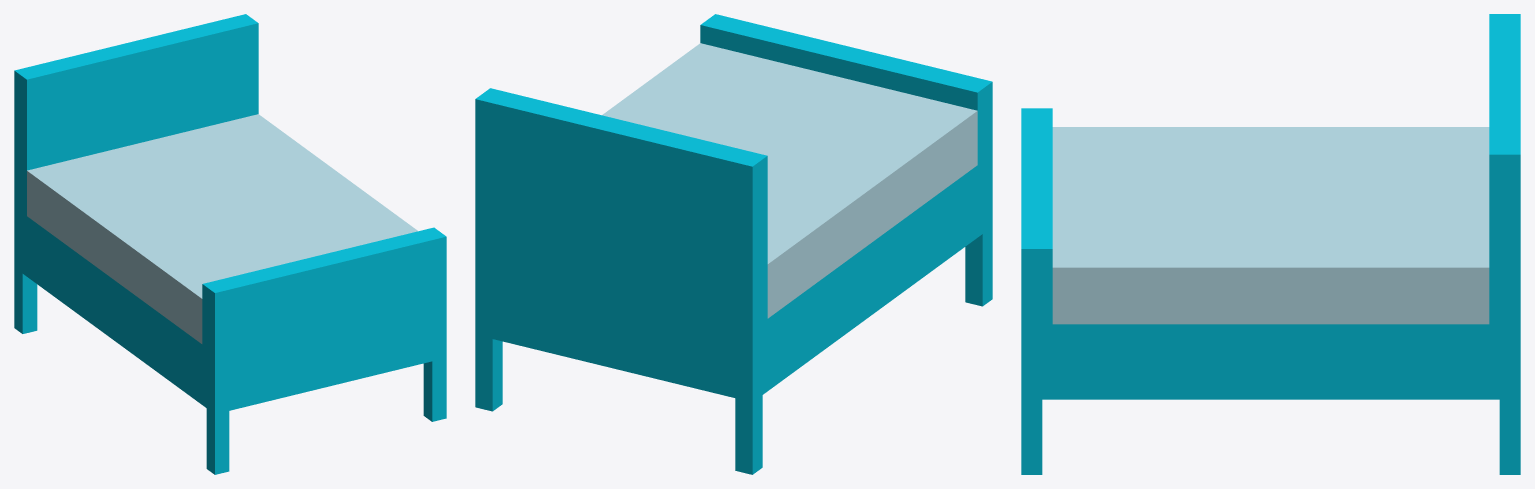
The model's file is Bed.glb.
3 renders of one model, left to right at view 1: azimuth 30°, elevation 25°; view 2: azimuth 150°, elevation 25°; view 3: azimuth 270°, elevation 25°, orthographic. The views are drawn at different scales.
Visible parts, largest first — view 1: Mattress, Base, Headboard, Baseboard, Leg 3, Leg 4, Leg 2; view 2: Headboard, Mattress, Base, Baseboard, Leg 2, Leg 1, Leg 3; view 3: Mattress, Base, Headboard, Baseboard, Leg 1, Leg 4.
Boxes of the visible parts, box(x1,y1,x2,y2) form: Mattress: box(27, 114, 417, 343); Base: box(14, 207, 446, 414); Headboard: box(14, 14, 258, 215); Baseboard: box(202, 227, 446, 353); Leg 3: box(206, 408, 229, 474); Leg 4: box(423, 358, 446, 421); Leg 2: box(14, 268, 37, 333); Headboard: box(475, 88, 767, 329); Mattress: box(602, 43, 977, 318); Base: box(475, 154, 992, 402); Baseboard: box(700, 14, 992, 164); Leg 2: box(735, 395, 762, 474); Leg 1: box(475, 335, 502, 411); Leg 3: box(965, 227, 992, 306); Mattress: box(1052, 127, 1489, 324); Base: box(1021, 324, 1520, 399); Headboard: box(1489, 14, 1520, 324); Baseboard: box(1021, 108, 1052, 324); Leg 1: box(1499, 399, 1520, 474); Leg 4: box(1021, 399, 1042, 474).
Bounding box in the file's own units: 0.1016 × 0.1079 × 0.1524.
